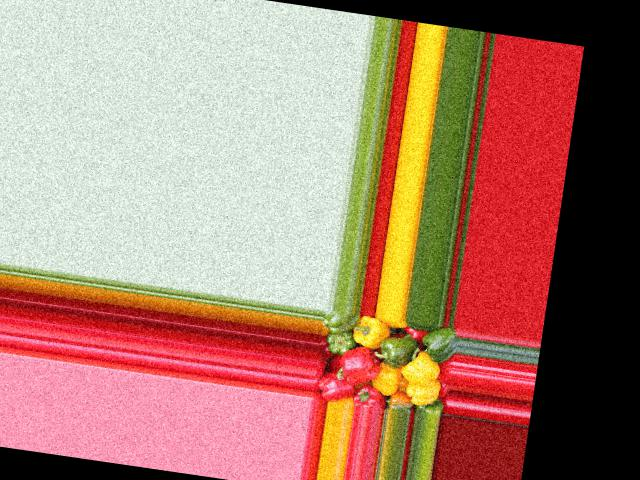bell_pepper: (411, 398, 443, 417)
